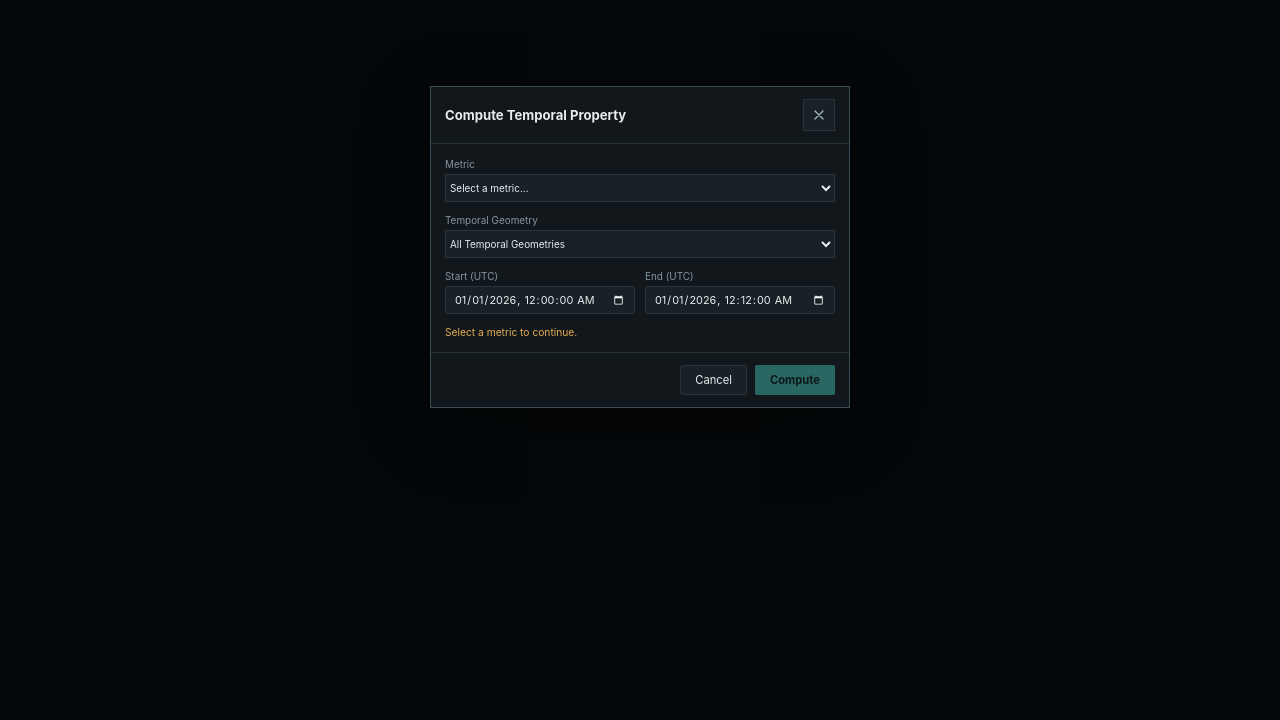
Scenario: ComputeTemporalPropertyDialog › keeps the dialog open and shows a warning on partial success, but still adds the successful segments
Select "Velocity" in the dropdown labelled "Metric" at {"x": 640, "y": 188}, box [445,174,835,202]
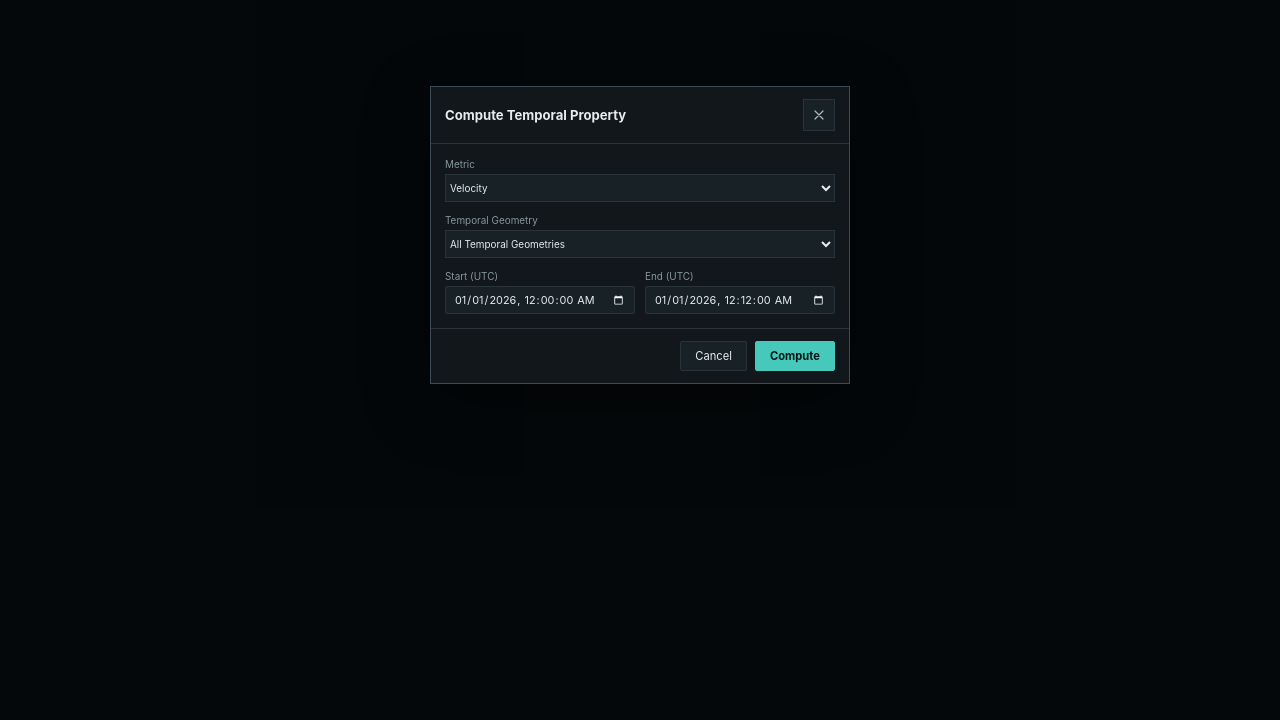
Click the button "Compute" at {"x": 795, "y": 356}, box [755,341,835,371]
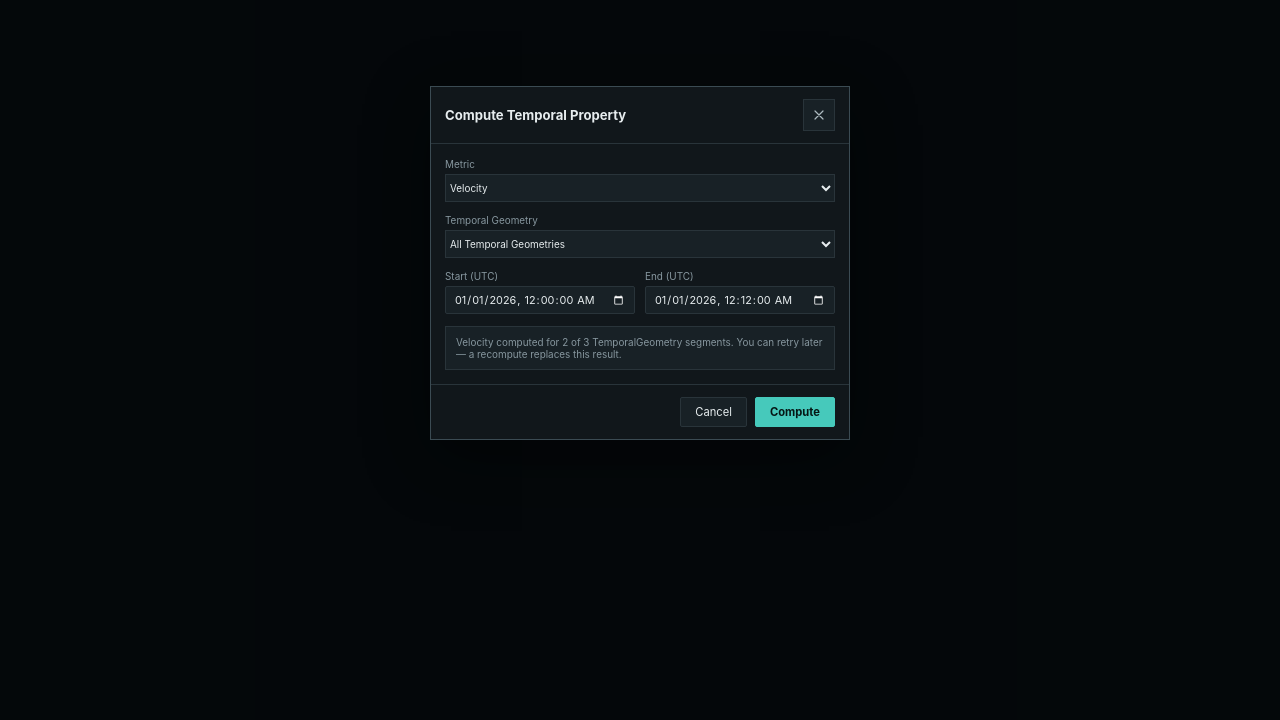
Check: the text "Velocity computed for 2 of 3 TemporalGeometry" is shown, box [456,336,824,360]
